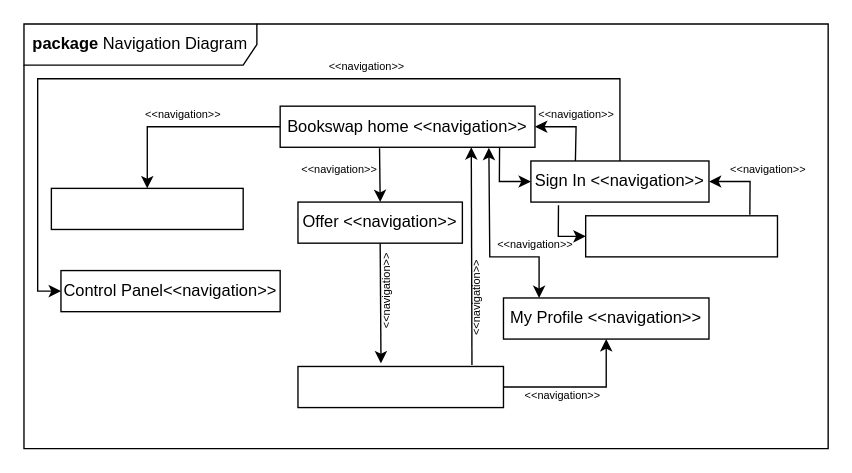
Some shapes in this 852 by 473 pixel diagram are drawn without their labels. The shapes that lost their labels are listed below. From the top down, each one's centre as x and y in pixels, then its label:
At point (146, 208): "About Us <<navigation>>".
At point (680, 235): "Sign Up <<navigation>>".
At point (400, 386): "Exchange <<navigation>>".
